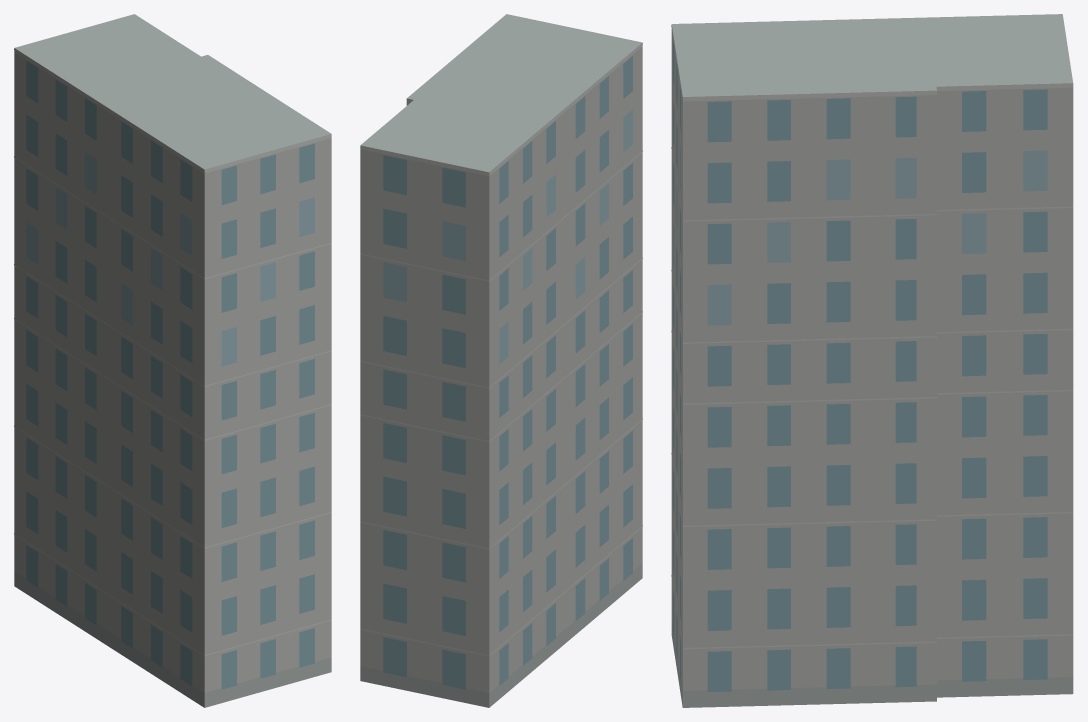
File: survey-upis-32748525.glb
3 views of the same model, side by side, from view 1: azimuth 30°, elevation 25°; view 2: azimuth 150°, elevation 25°; view 3: azimuth 270°, elevation 25° (orthographic). The views are drawn at different scales.
Parts seen in each view (by area): view 1: survey-upis-32748525.tmp; view 2: survey-upis-32748525.tmp; view 3: survey-upis-32748525.tmp.
Boxes of the visible parts, x1=… form: survey-upis-32748525.tmp: x1=14, y1=14, x2=331, y2=707; survey-upis-32748525.tmp: x1=360, y1=14, x2=642, y2=707; survey-upis-32748525.tmp: x1=671, y1=14, x2=1073, y2=707.
Size of the model in its own units: 9.68 by 33.1 by 19.75.
